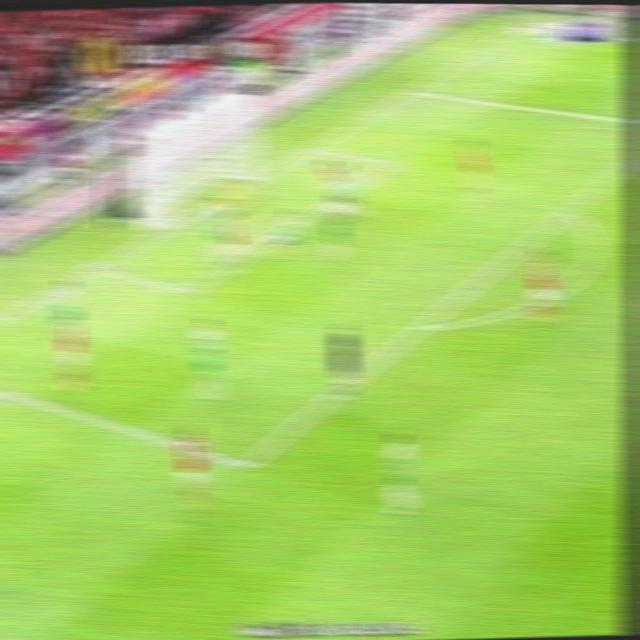bigarea_bottom_inner: (225, 448, 260, 480)
bigarea_top_outter: (395, 78, 423, 100)
bottom_arc_area_intersection: (403, 311, 434, 339)
corner: (501, 16, 533, 37)
smallarea_bottom_inner: (171, 274, 202, 305)
smallarea_bottom_outter: (81, 253, 109, 276)
smallarea_top_inner: (376, 152, 403, 175)
smallarea_top_outter: (296, 135, 323, 158)
top_arc_area_intersection: (555, 198, 581, 219)
